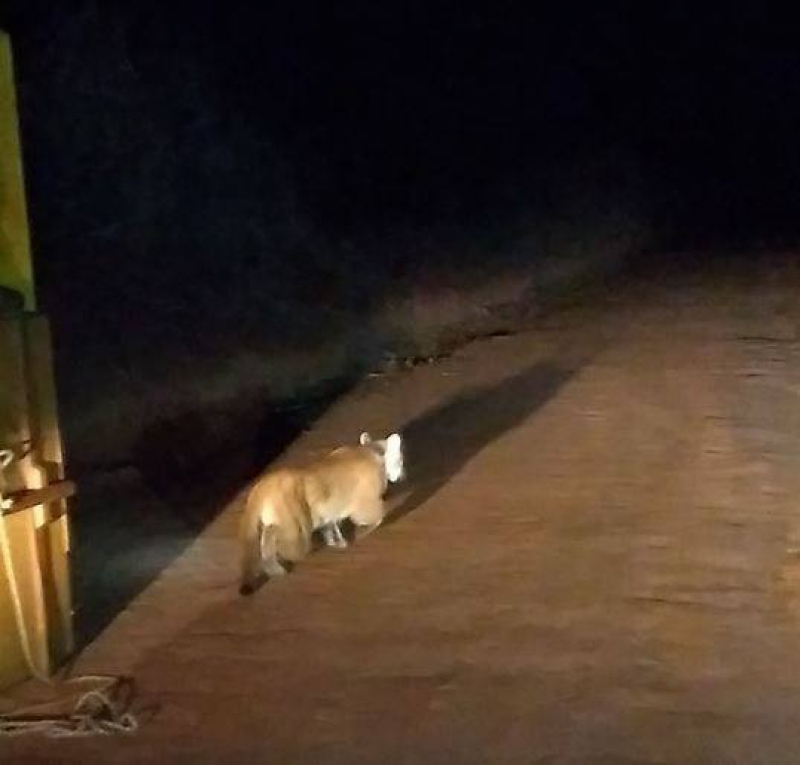OncaParda: (230, 427, 412, 597)
